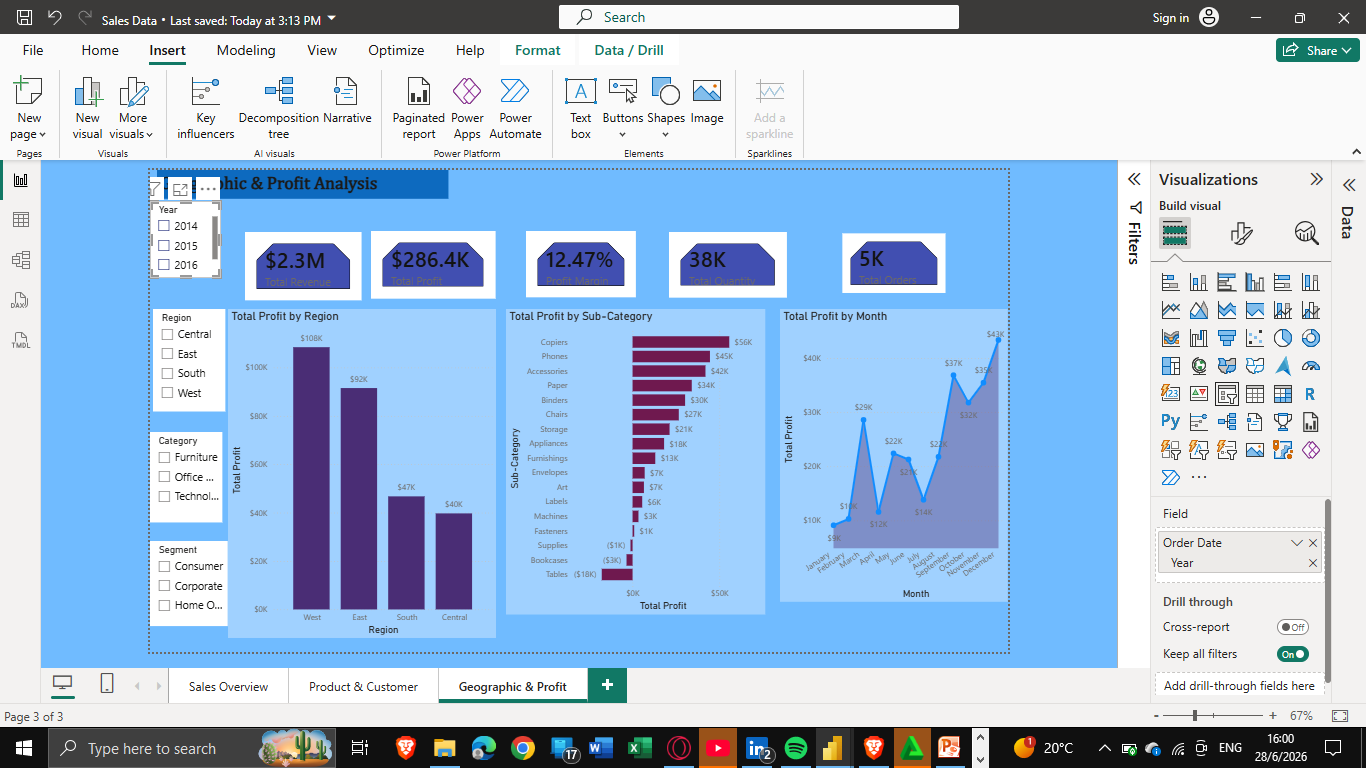

What the dashboard file says about the page in this screenshot:
{"tool":"powerbi","page":{"name":"Geographic & Profit","canvas":[1280,720],"ordinal":2},"visuals":[{"type":"textbox","box":[10,0,435,42.5],"z":0},{"type":"columnChart","fields":{"Category":["Sample - Superstore.Region"],"Y":["Sample - Superstore.Total Profit"]},"box":[115.7,207.1,400,491.4],"z":1000},{"type":"clusteredBarChart","fields":{"Y":["Sample - Superstore.Total Profit"],"Category":["Sample - Superstore.Sub-Category"]},"box":[531.4,207.1,387.1,455.7],"z":2000},{"type":"lineChart","fields":{"Y":["Sample - Superstore.Total Profit"],"Category":["Sample - Superstore.Order Date.Variation.Date Hierarchy.Month"]},"box":[940,207.1,340,437.1],"z":3000},{"type":"cardVisual","fields":{"Data":["Sample - Superstore.Total Revenue"]},"box":[141.1,92.2,174.2,102.2],"z":4000},{"type":"cardVisual","fields":{"Data":["Sample - Superstore.Total Profit"]},"box":[329.8,90.7,185.8,100.8],"z":5000},{"type":"cardVisual","fields":{"Data":["Sample - Superstore.Profit Margin"]},"box":[561.6,90.7,164.2,99.4],"z":6000},{"type":"cardVisual","fields":{"Data":["Sample - Superstore.Total Quantity"]},"box":[774.7,92.2,175.7,97.9],"z":7000},{"type":"cardVisual","fields":{"Data":["Sample - Superstore.Total Orders"]},"box":[1028.2,89.3,164.2,99.4],"z":8000},{"type":"slicer","fields":{"Values":["Sample - Superstore.Order Date.Variation.Date Hierarchy.Year"]},"box":[0,46.8,106.3,114.8],"z":9000},{"type":"slicer","fields":{"Values":["Sample - Superstore.Region"]},"box":[4.3,206.9,107.7,153.1],"z":10000},{"type":"slicer","fields":{"Values":["Sample - Superstore.Category"]},"box":[0,391.2,107.7,134.6],"z":11000},{"type":"slicer","fields":{"Values":["Sample - Superstore.Segment"]},"box":[0,554.3,115.7,127.1],"z":12000}]}

Visuals, with their boxes on the page's 1280x720 design canvas (x1, y1, x2, y2). These are canvas units, not pixel positions in the 1366x768 screenshot, which may show the page scaled, cropped or inside an application window:
textbox: 10,0,445,42
columnChart - Sample - Superstore.Region x Sample - Superstore.Total Profit: 116,207,516,698
clusteredBarChart - Sample - Superstore.Total Profit x Sample - Superstore.Sub-Category: 531,207,918,663
lineChart - Sample - Superstore.Total Profit x Sample - Superstore.Order Date.Variation.Date Hierarchy.Month: 940,207,1280,644
cardVisual - Sample - Superstore.Total Revenue: 141,92,315,194
cardVisual - Sample - Superstore.Total Profit: 330,91,516,192
cardVisual - Sample - Superstore.Profit Margin: 562,91,726,190
cardVisual - Sample - Superstore.Total Quantity: 775,92,950,190
cardVisual - Sample - Superstore.Total Orders: 1028,89,1192,189
slicer - Sample - Superstore.Order Date.Variation.Date Hierarchy.Year: 0,47,106,162
slicer - Sample - Superstore.Region: 4,207,112,360
slicer - Sample - Superstore.Category: 0,391,108,526
slicer - Sample - Superstore.Segment: 0,554,116,681
